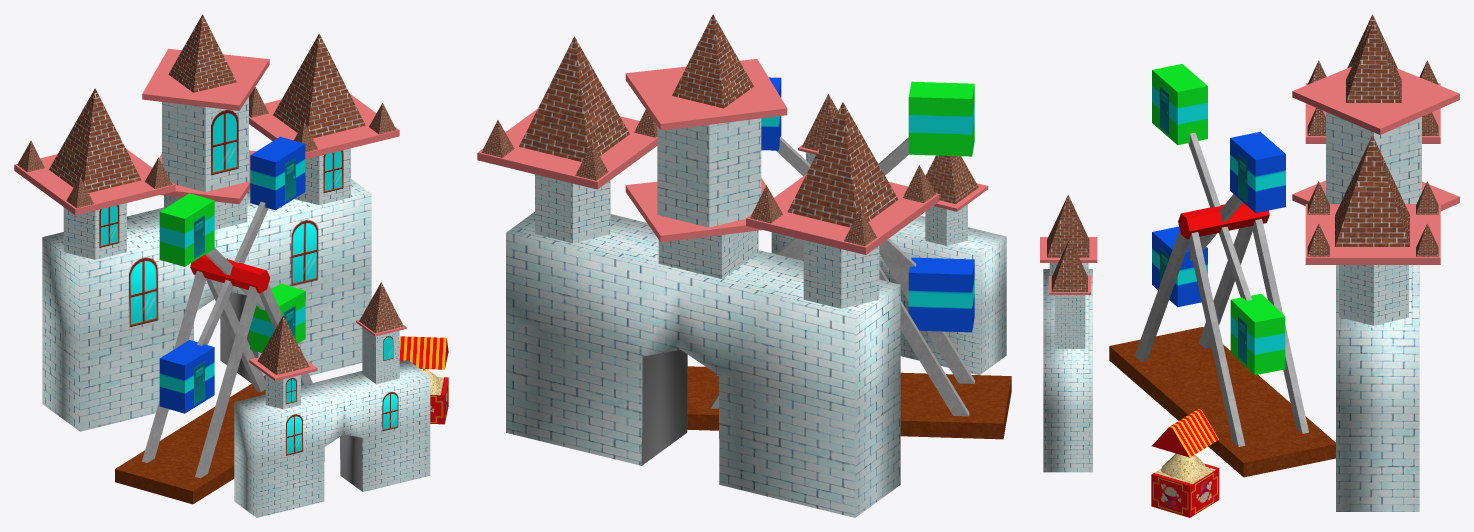
File: mini-land.fbx
3 views of the same model, side by side, from view 1: azimuth 30°, elevation 25°; view 2: azimuth 150°, elevation 25°; view 3: azimuth 270°, elevation 25° (orthographic). The views are drawn at different scales.
Parts seen in each view (by area): view 1: polySurface218; view 2: polySurface218; view 3: polySurface218.
Part boxes in pixels (x1,y1,x2,y2): polySurface218: [14, 14, 448, 517]; polySurface218: [477, 14, 1011, 517]; polySurface218: [1040, 14, 1459, 517].
Size of the model in its own units: 6.43 by 6.88 by 6.38.
